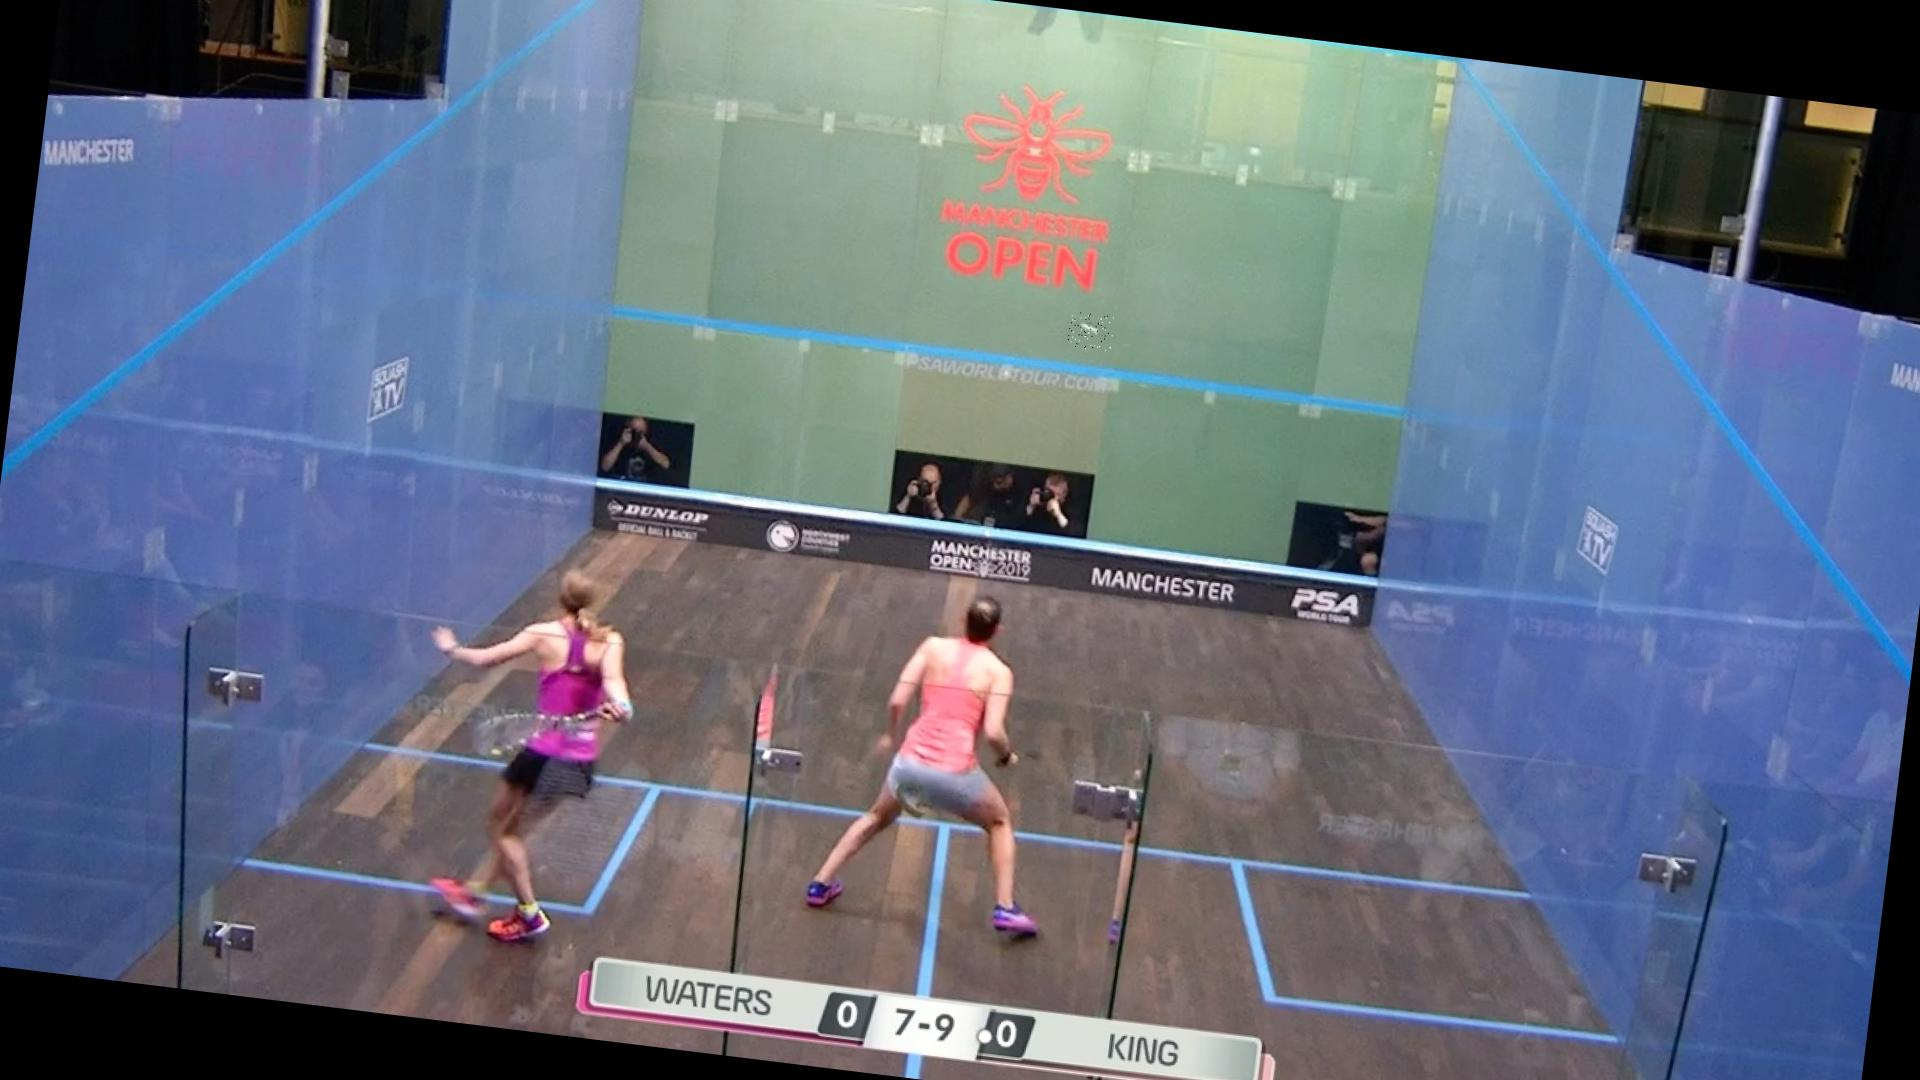Squash-Ball: (1067, 311, 1116, 352)
